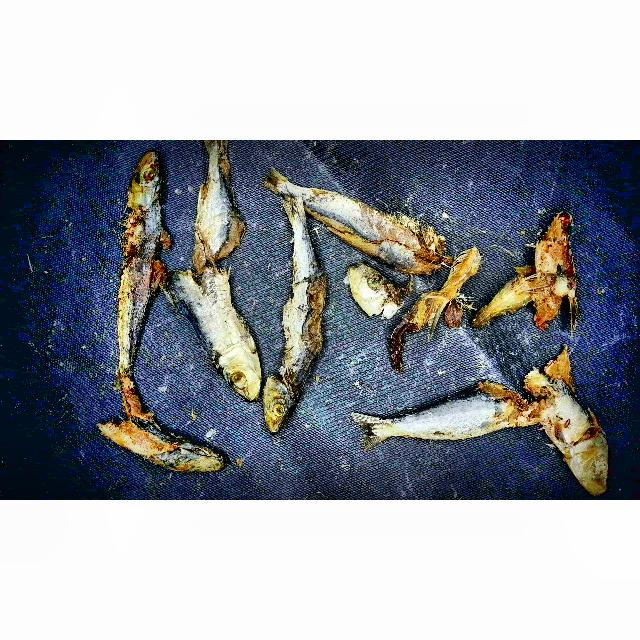Rejected_Body: (94, 229, 173, 388), (314, 185, 446, 276), (395, 375, 535, 447), (189, 142, 252, 265), (277, 232, 331, 362)
Rejected_Head: (522, 369, 618, 498), (175, 272, 263, 408), (476, 216, 575, 332), (91, 416, 229, 479), (110, 146, 173, 249), (342, 252, 404, 325), (258, 357, 315, 436)
Rejected_Tail: (346, 409, 402, 455), (277, 192, 312, 239)
